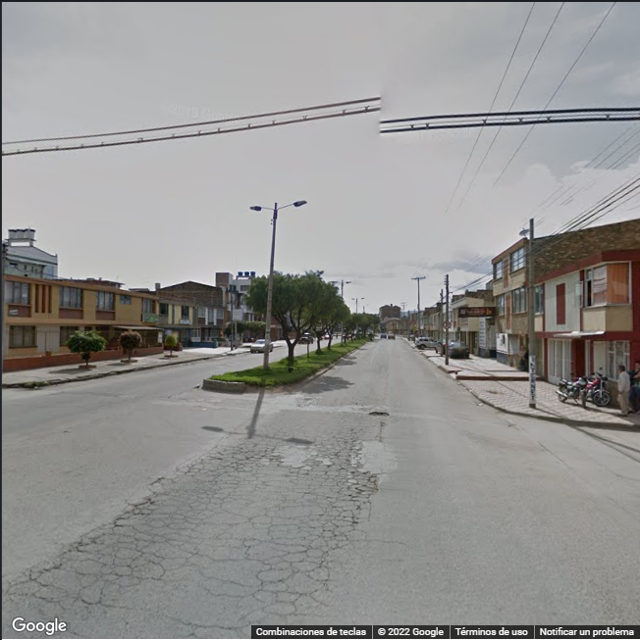D20: (20, 439, 377, 603)
